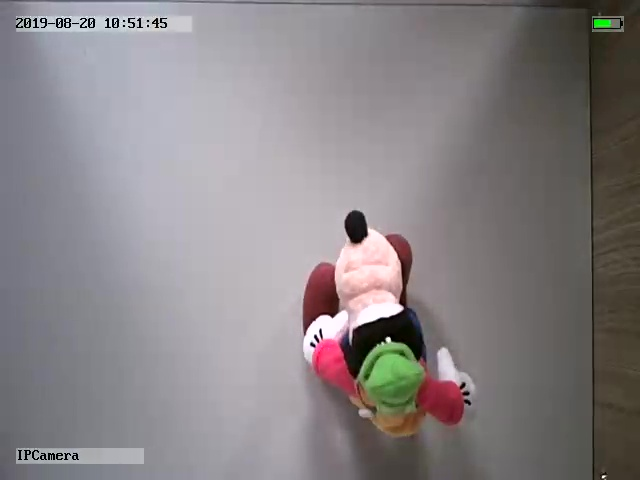goofy: (301, 209, 477, 436)
